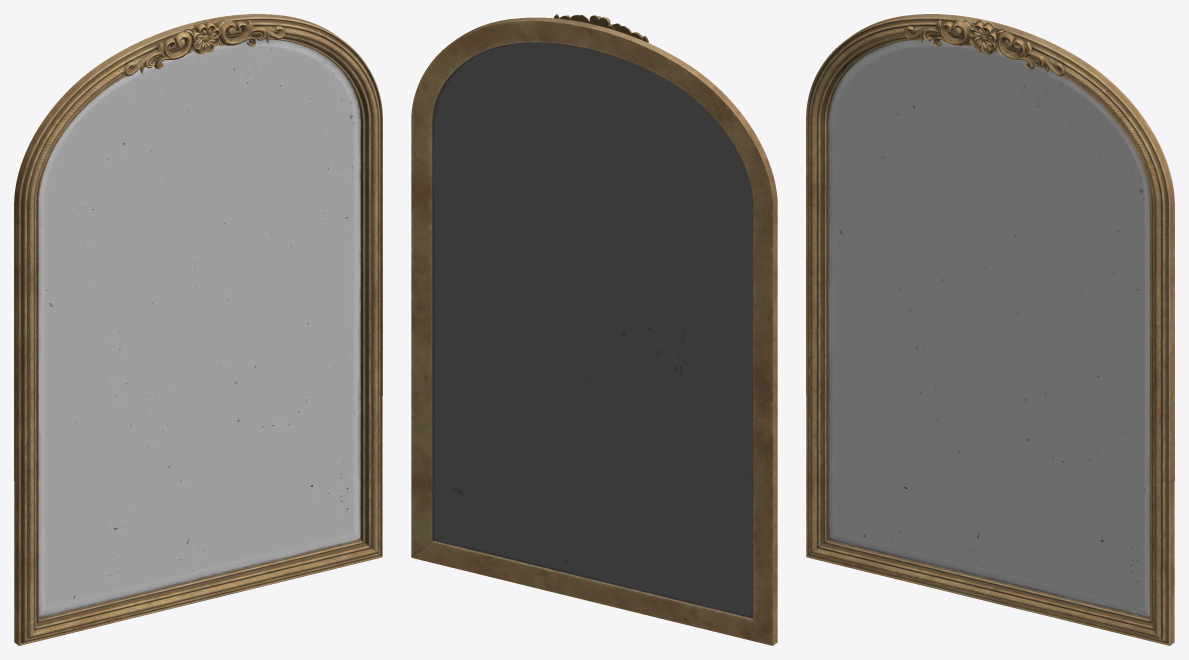
Rendered from ornate_mirror_01.gltf.
The picture shows the model from 3 angles, left to right: view 1: azimuth 30°, elevation 25°; view 2: azimuth 150°, elevation 25°; view 3: azimuth 330°, elevation 25°; orthographic projection.
Visible parts, largest first — view 1: ornate_mirror_01; view 2: ornate_mirror_01; view 3: ornate_mirror_01.
Boxes of the visible parts, x1=… form: ornate_mirror_01: x1=14, y1=14, x2=382, y2=645; ornate_mirror_01: x1=411, y1=14, x2=777, y2=645; ornate_mirror_01: x1=806, y1=14, x2=1174, y2=645.
Bounding box in the file's own units: 0.4865 × 0.7442 × 0.026.
1 material, 1 textured.
